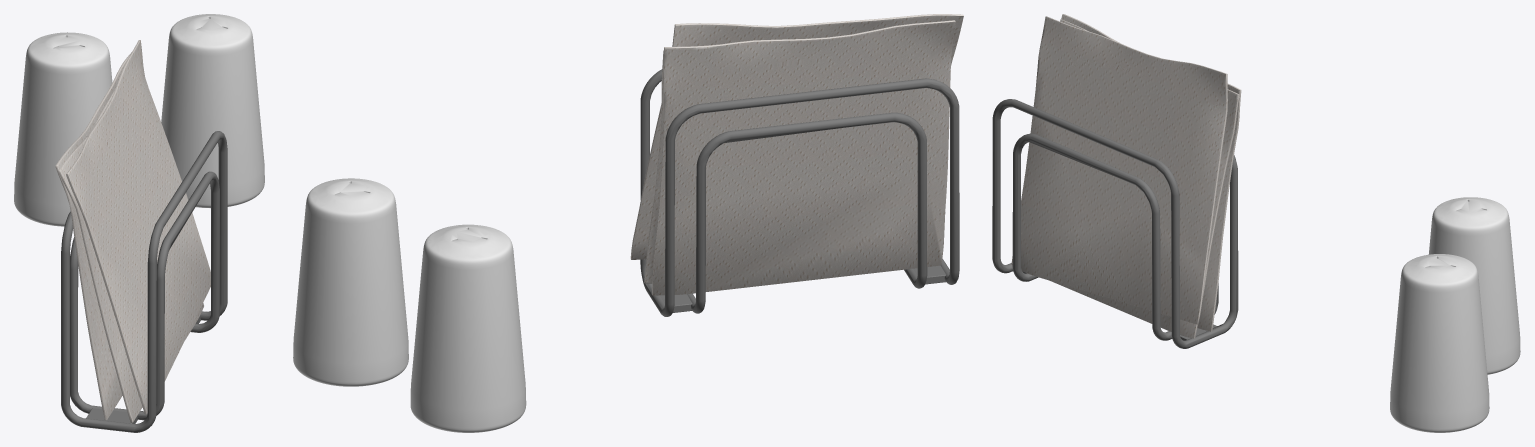
Rendered from saltandpapper.fbx.
3 renders of one model, left to right at view 1: azimuth 30°, elevation 25°; view 2: azimuth 150°, elevation 25°; view 3: azimuth 270°, elevation 25°, orthographic. The views are drawn at different scales.
Parts seen in each view (by area): view 1: Salt&paperTowelsOBJ.002, Salt&paperTowelsOBJ.001, Salt&paperTowelsOBJ; view 2: Salt&paperTowelsOBJ.002, Salt&paperTowelsOBJ.001, Salt&paperTowelsOBJ; view 3: Salt&paperTowelsOBJ.002, Salt&paperTowelsOBJ.001, Salt&paperTowelsOBJ.
Boxes of the visible parts, box(x1,y1,x2,y2) form: Salt&paperTowelsOBJ.002: box(55, 40, 210, 422); Salt&paperTowelsOBJ.001: box(14, 14, 264, 226); Salt&paperTowelsOBJ: box(61, 131, 227, 432); Salt&paperTowelsOBJ.002: box(630, 14, 963, 295); Salt&paperTowelsOBJ.001: box(293, 178, 526, 432); Salt&paperTowelsOBJ: box(640, 69, 959, 316); Salt&paperTowelsOBJ.002: box(1011, 14, 1241, 338); Salt&paperTowelsOBJ.001: box(1390, 197, 1520, 432); Salt&paperTowelsOBJ: box(992, 99, 1238, 348).
Size of the model in its own units: 2102 by 1373 by 2566.
